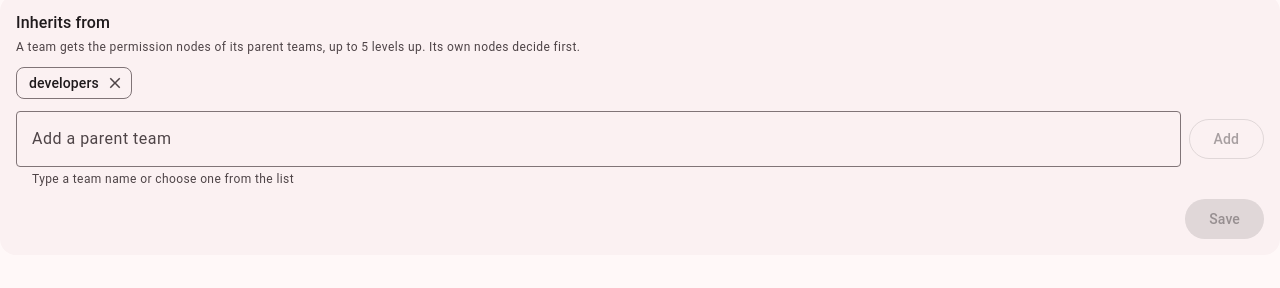
it: TeamParentsCard › saving › shows the message of a 409 on the card and not as a toast
Type "staff" into the dropdown labelled "Add a parent team".
click(598, 139); type("staff")  # box [16,111,1181,167]
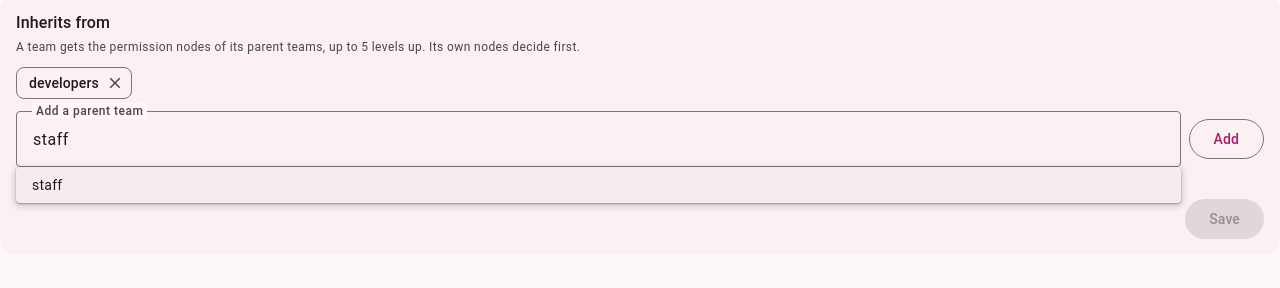
Press Enter in the dropdown labelled "Add a parent team", box [16,111,1181,167]
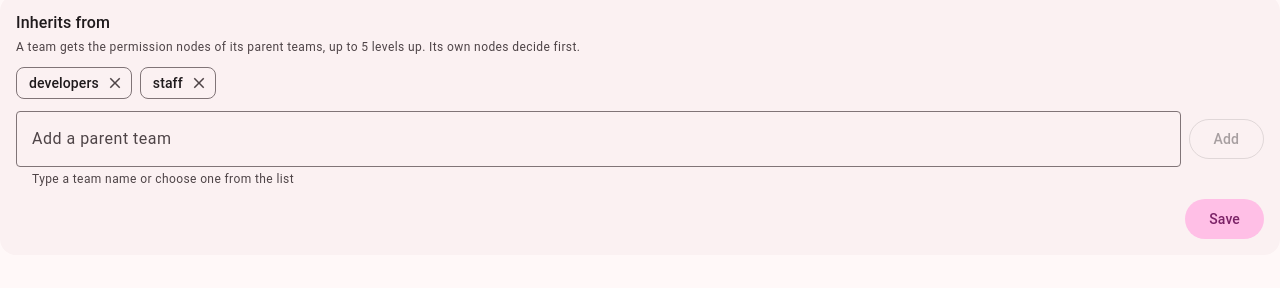
Click the button with test id "save-parents".
click(1225, 219)  # box [1185,199,1264,239]
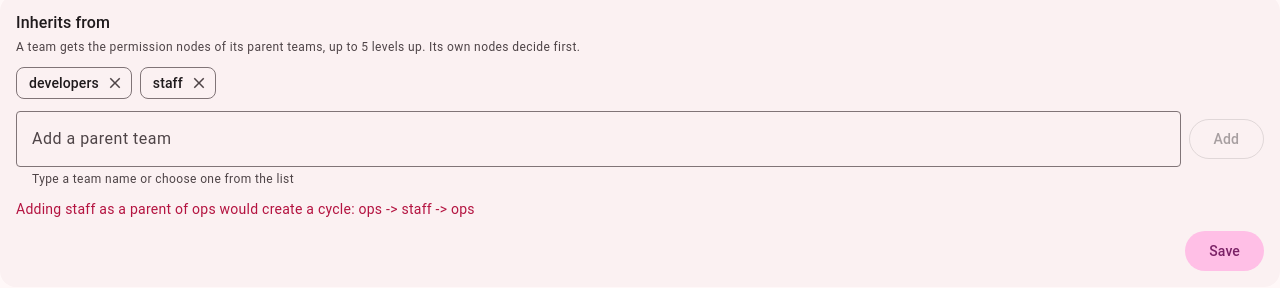
Check: the message with test id "parents-error" reads "Adding staff as a parent of ops would create a cycle: ops -> staff -> ops", box [16,201,475,217]
